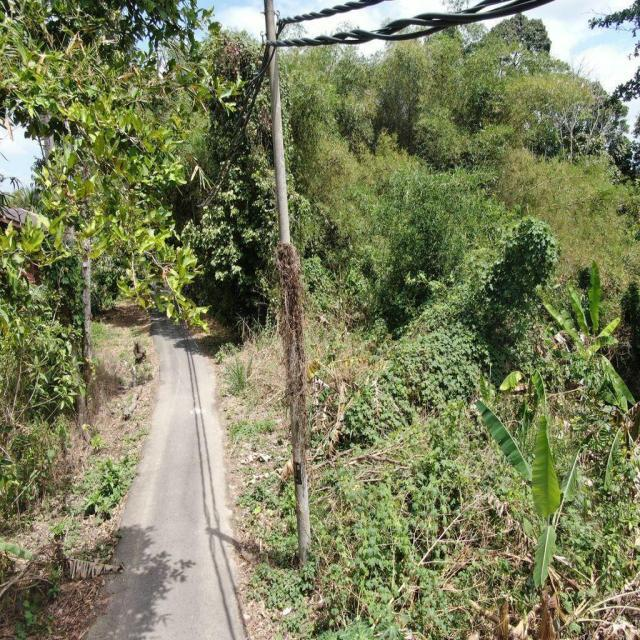critical vegetation: (264, 233, 318, 470)
